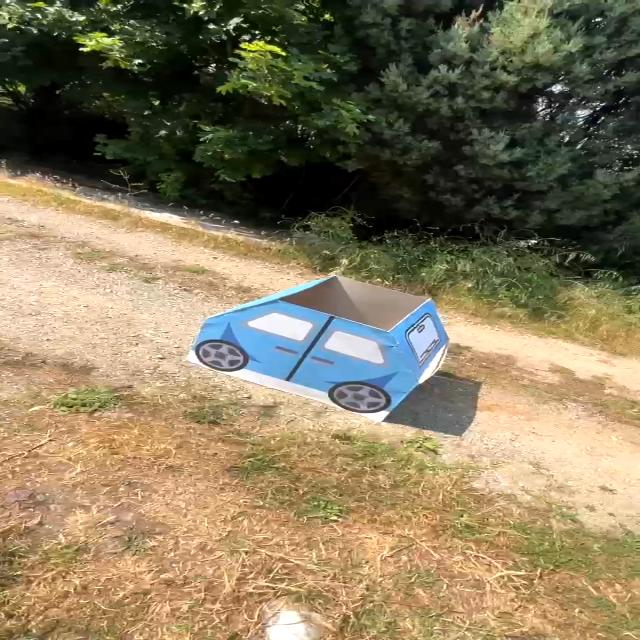blue_car: (166, 259, 482, 428)
